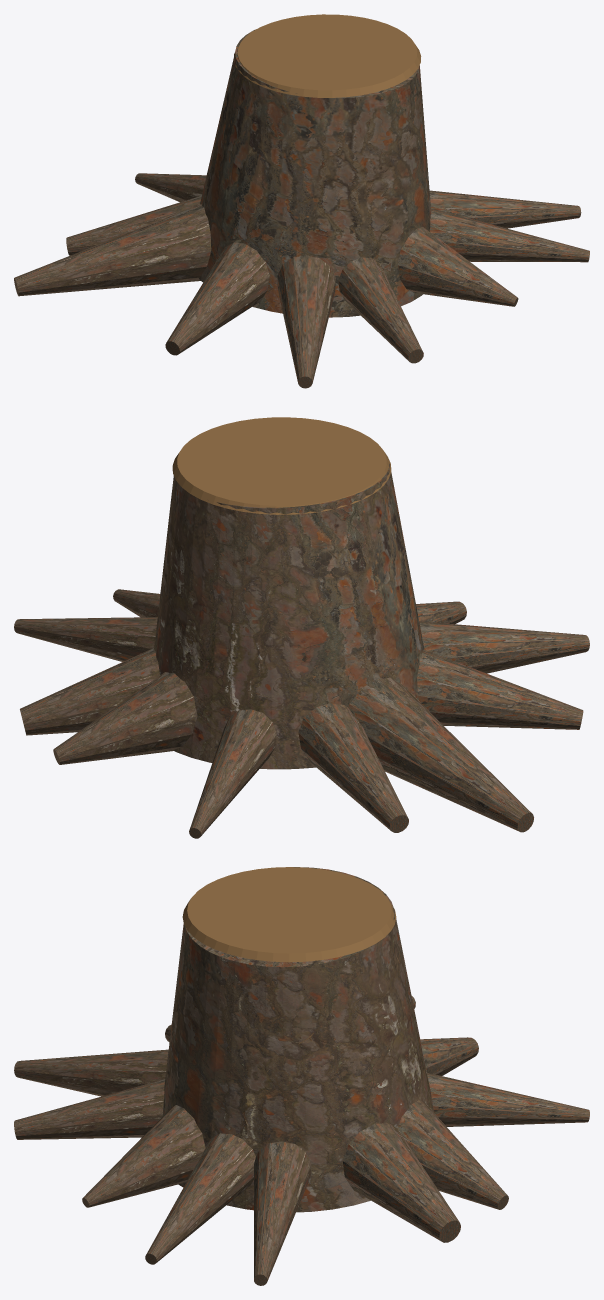
Rendered from detail_stump.glb.
The picture shows the model from 3 angles, top to bottom: view 1: azimuth 30°, elevation 25°; view 2: azimuth 150°, elevation 25°; view 3: azimuth 270°, elevation 25°; orthographic projection. The views are drawn at different scales.
Visible parts, largest first — view 1: HighResolutionStump, VisibleTreeRings, ExposedRoot5, ExposedRoot6, ExposedRoot7, ExposedRoot9, ExposedRoot10, ExposedRoot8, ExposedRoot0, ExposedRoot4, ExposedRoot3; view 2: HighResolutionStump, VisibleTreeRings, ExposedRoot5, ExposedRoot6, ExposedRoot2, ExposedRoot4, ExposedRoot7, ExposedRoot1, ExposedRoot3, ExposedRoot0, ExposedRoot8, ExposedRoot10; view 3: HighResolutionStump, VisibleTreeRings, ExposedRoot1, ExposedRoot9, ExposedRoot10, ExposedRoot8, ExposedRoot0, ExposedRoot3, ExposedRoot2, ExposedRoot7, ExposedRoot4.
Boxes of the visible parts, x1,y1,x2,y2 form: HighResolutionStump: [199, 29, 431, 317]; VisibleTreeRings: [233, 14, 421, 97]; ExposedRoot5: [14, 204, 211, 296]; ExposedRoot6: [165, 242, 269, 355]; ExposedRoot7: [277, 255, 335, 388]; ExposedRoot9: [398, 227, 518, 306]; ExposedRoot10: [430, 208, 589, 262]; ExposedRoot8: [338, 257, 423, 363]; ExposedRoot0: [429, 190, 581, 228]; ExposedRoot4: [66, 195, 201, 255]; ExposedRoot3: [135, 173, 206, 202]; HighResolutionStump: [154, 463, 424, 769]; VisibleTreeRings: [172, 417, 391, 514]; ExposedRoot5: [348, 677, 533, 832]; ExposedRoot6: [417, 650, 583, 729]; ExposedRoot2: [53, 672, 197, 764]; ExposedRoot4: [298, 703, 408, 832]; ExposedRoot7: [419, 621, 589, 673]; ExposedRoot1: [20, 648, 159, 735]; ExposedRoot3: [189, 709, 276, 838]; ExposedRoot0: [14, 617, 157, 661]; ExposedRoot8: [416, 601, 466, 624]; ExposedRoot10: [113, 589, 160, 617]; HighResolutionStump: [162, 867, 434, 1212]; VisibleTreeRings: [182, 867, 396, 962]; ExposedRoot1: [342, 1122, 460, 1242]; ExposedRoot9: [82, 1105, 205, 1207]; ExposedRoot10: [145, 1133, 255, 1264]; ExposedRoot8: [14, 1079, 165, 1139]; ExposedRoot0: [254, 1141, 311, 1285]; ExposedRoot3: [427, 1072, 589, 1126]; ExposedRoot2: [397, 1099, 508, 1209]; ExposedRoot7: [14, 1049, 168, 1096]; ExposedRoot4: [420, 1037, 478, 1075].
Size of the model in its own units: 2.19 by 0.9168 by 1.91.
2 materials, 1 textured.
